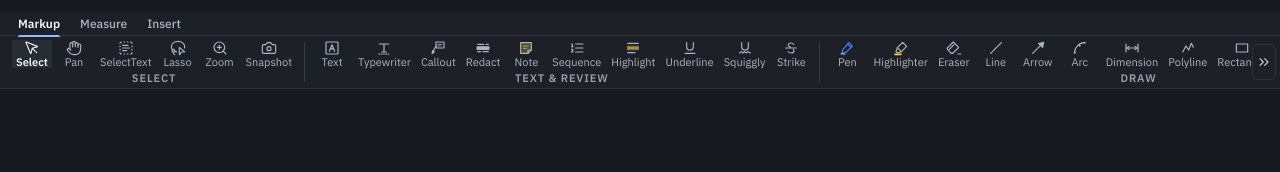
Scenario: Cinta de herramientas - Medición y calibración (Paquete 4) › renderiza todos los botones de medición y calibración con sus data-testid correspondientes
// Pestaña Measure de la cinta (ADR-0044)
Step 1. Click the tab with test id "ribbon-tab-measure" → [104, 24], box [70, 12, 137, 36]
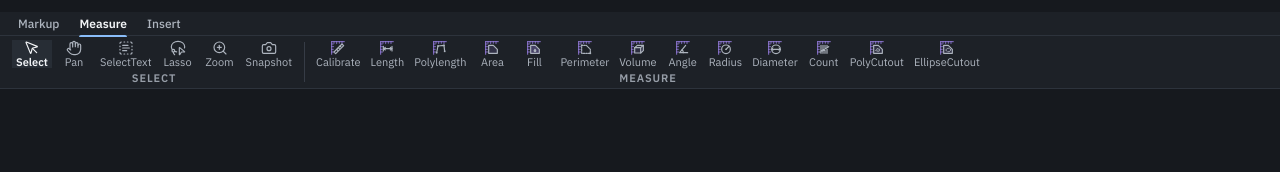
Result: the button with test id "tool-calibrate" is shown at [312, 40, 365, 68]
Result: the button with test id "tool-measure-length" is shown at [367, 40, 408, 68]
Result: the button with test id "tool-measure-polyline" is shown at [410, 40, 470, 68]
